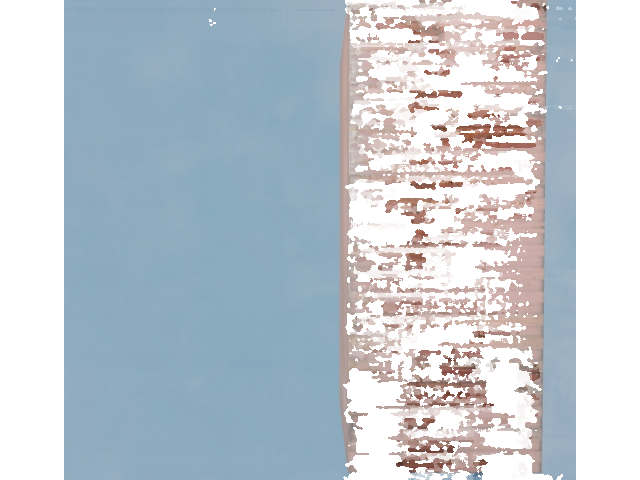container4: (340, 0, 546, 474)
